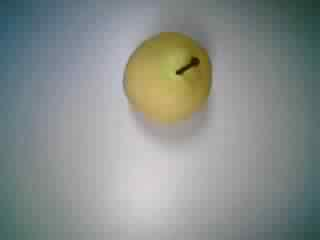pear: (114, 26, 225, 136)
